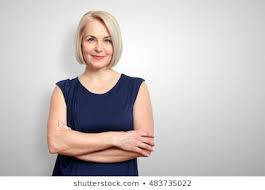white_female: (79, 22, 121, 78)
